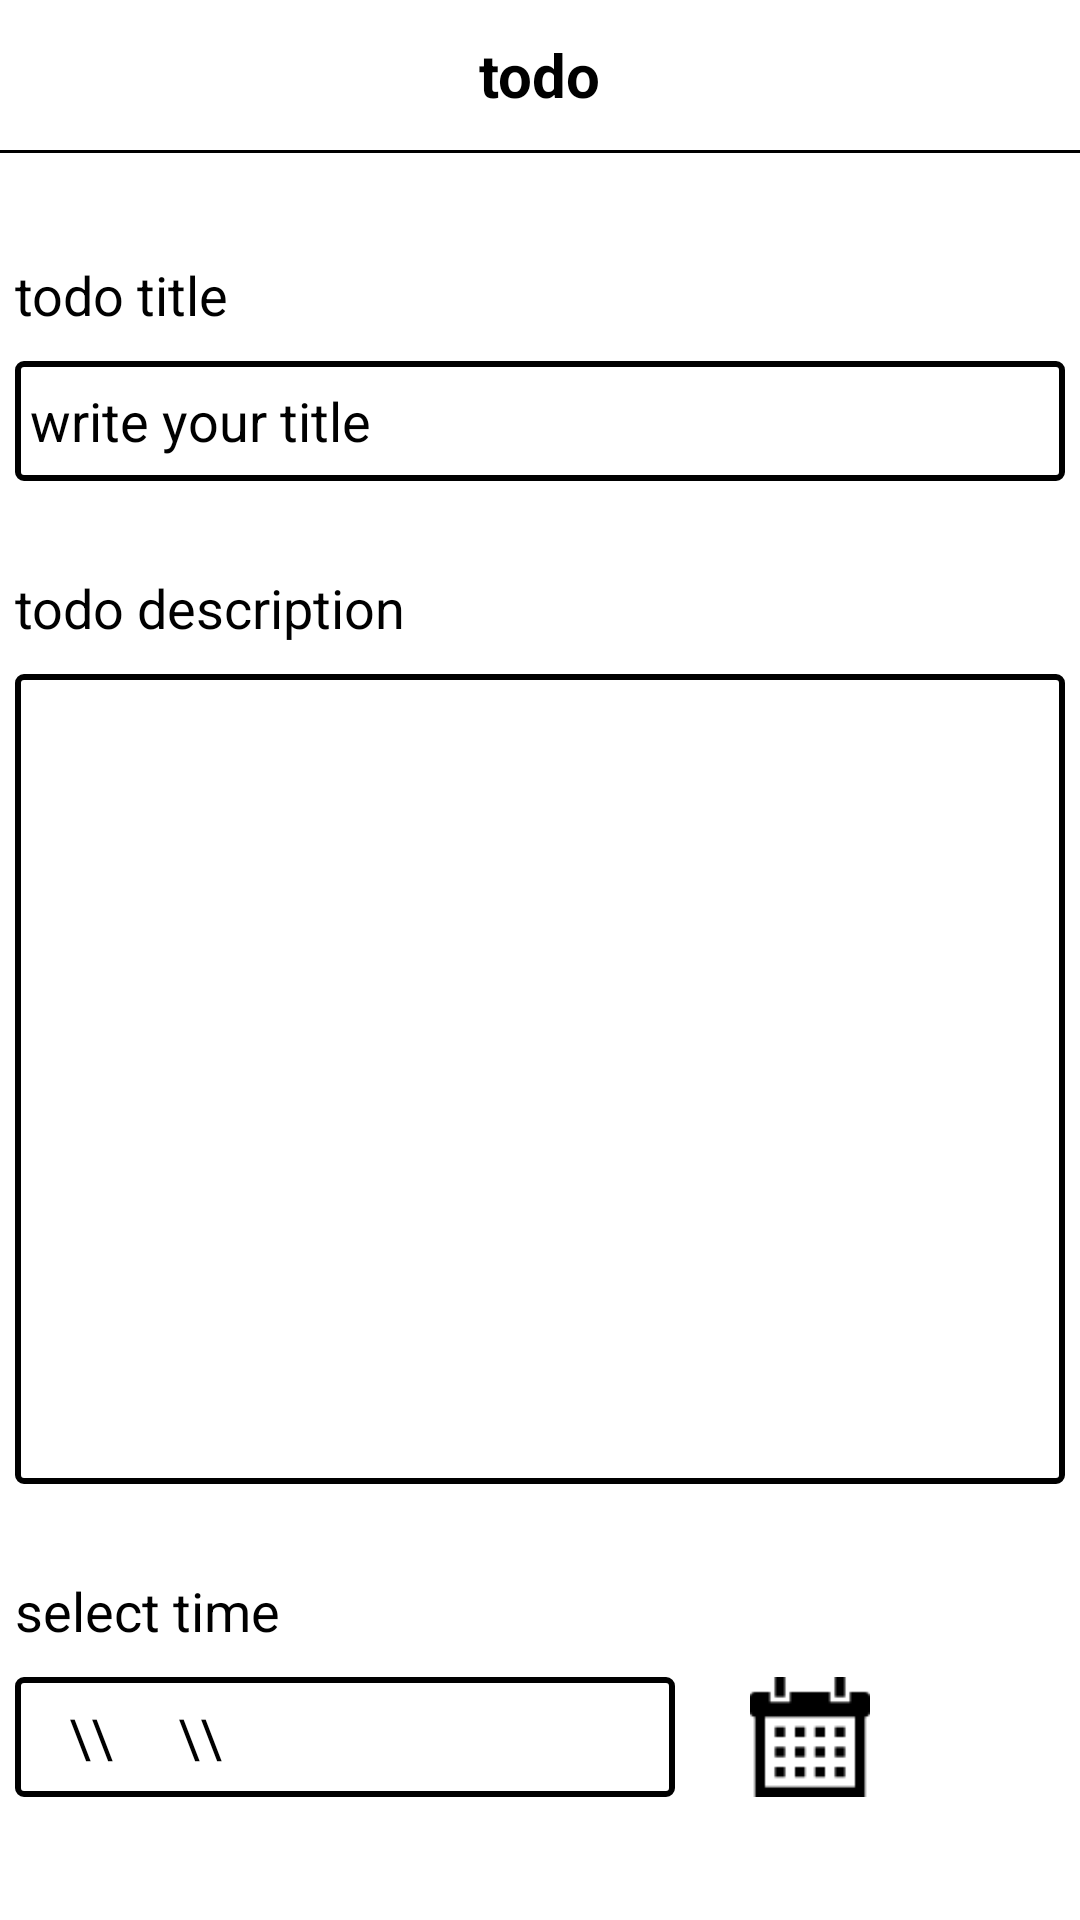

Where icons sit on this 1080*1920 app screen, as detection(x1, y1, x2, y2):
calendar: detection(750, 1677, 870, 1797)
